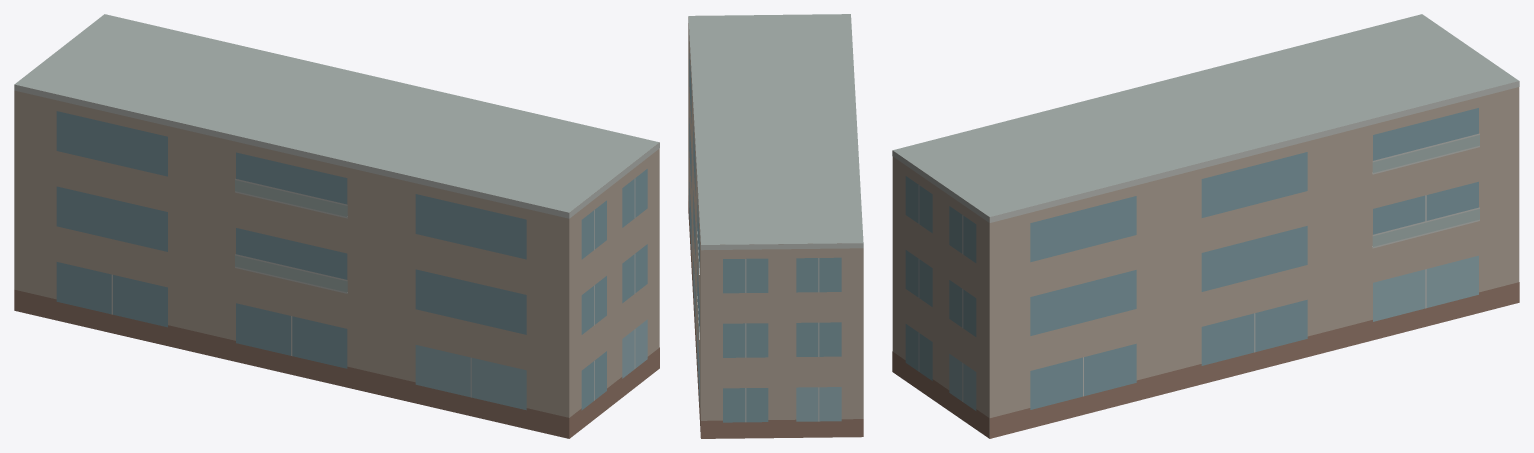
The model's file is survey-upis-32714549.glb.
3 views of the same model, side by side, from view 1: azimuth 30°, elevation 25°; view 2: azimuth 150°, elevation 25°; view 3: azimuth 270°, elevation 25° (orthographic). The views are drawn at different scales.
Visible parts, largest first — view 1: survey-upis-32714549.tmp; view 2: survey-upis-32714549.tmp; view 3: survey-upis-32714549.tmp.
Part boxes in pixels (x1=…): survey-upis-32714549.tmp: x1=14, y1=14, x2=659, y2=438; survey-upis-32714549.tmp: x1=688, y1=14, x2=863, y2=438; survey-upis-32714549.tmp: x1=892, y1=14, x2=1519, y2=438.
Bounding box in the file's own units: 18 × 9.15 × 23.46.
